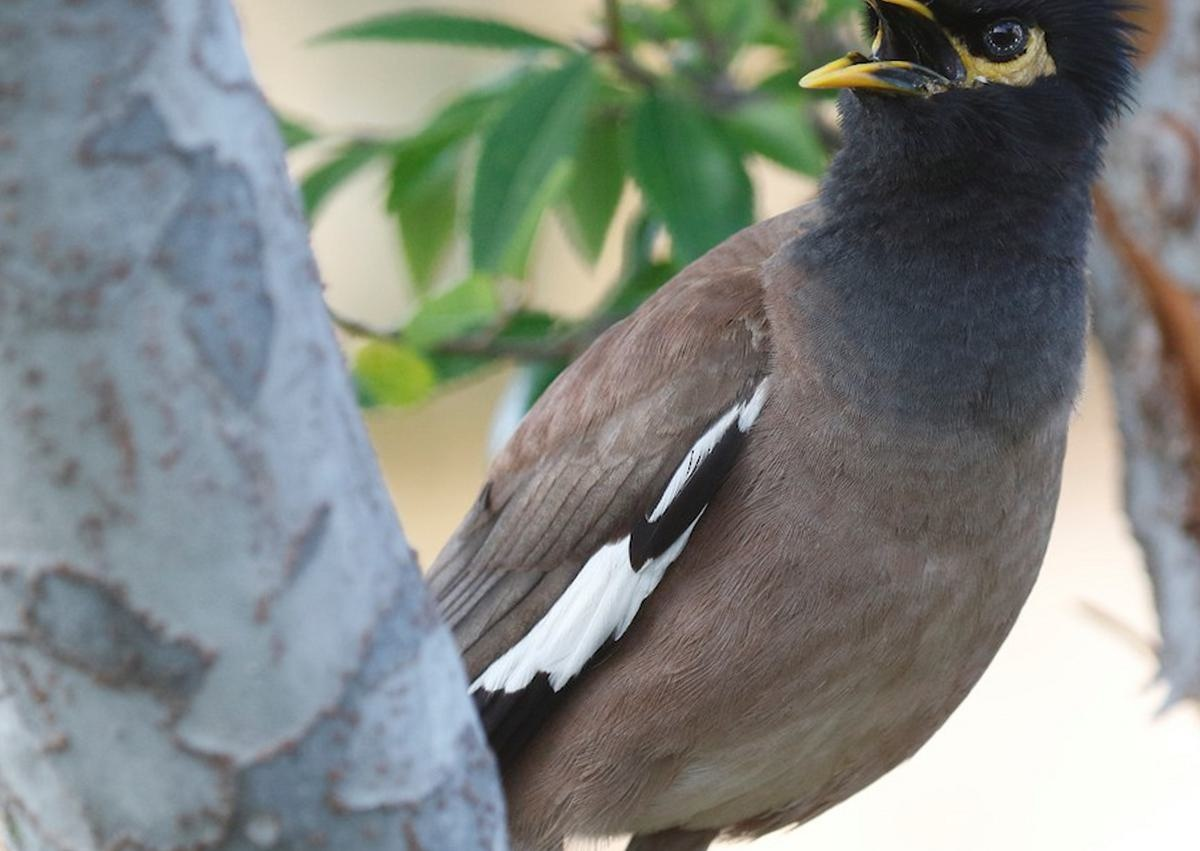myna: (459, 8, 1134, 816)
